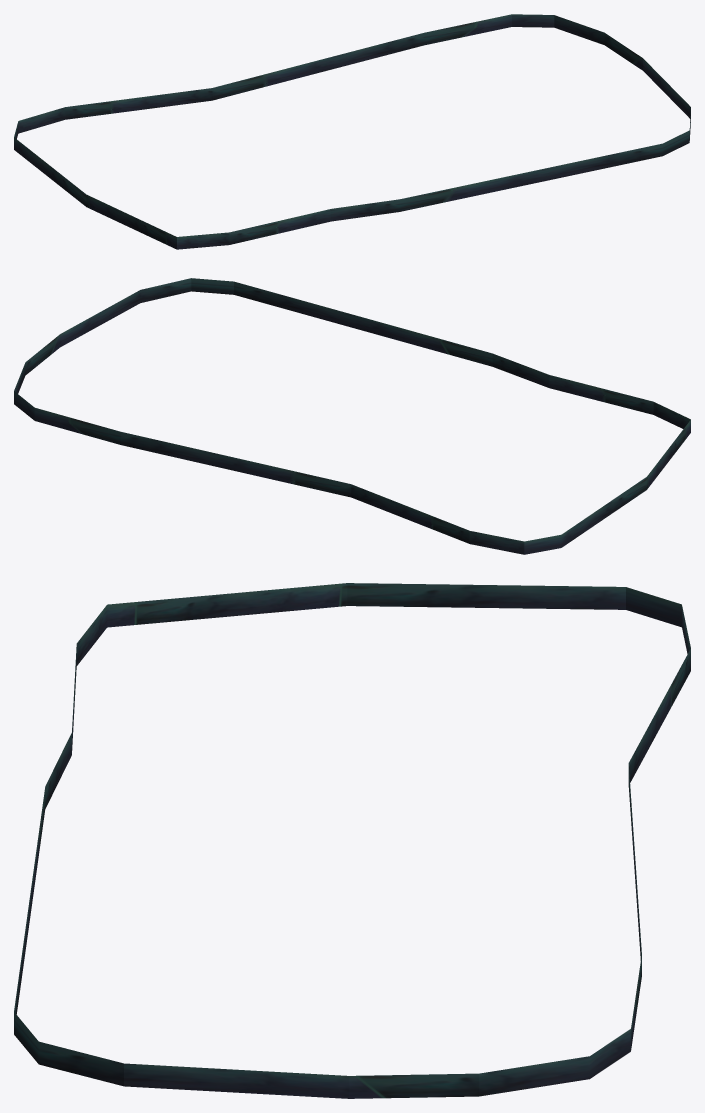
File: CZPlat_5_Lat.gltf
3 views of the same model, one above another, from view 1: azimuth 30°, elevation 25°; view 2: azimuth 150°, elevation 25°; view 3: azimuth 270°, elevation 25° (orthographic). The views are drawn at different scales.
Parts seen in each view (by area): view 1: CZPlat_5_Lat; view 2: CZPlat_5_Lat; view 3: CZPlat_5_Lat.
Boxes of the visible parts, x1,y1,x2,y2 form: CZPlat_5_Lat: [14, 14, 690, 249]; CZPlat_5_Lat: [14, 278, 690, 554]; CZPlat_5_Lat: [14, 583, 690, 1098].
Bounding box in the file's own units: 41.46 × 0.9013 × 24.07.
Materials: 1 (1 with a texture image).
